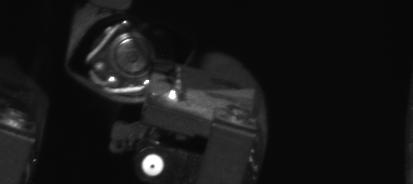fiber: (135, 149, 169, 180)
